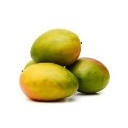mango: (19, 63, 80, 102), (31, 27, 82, 65)
